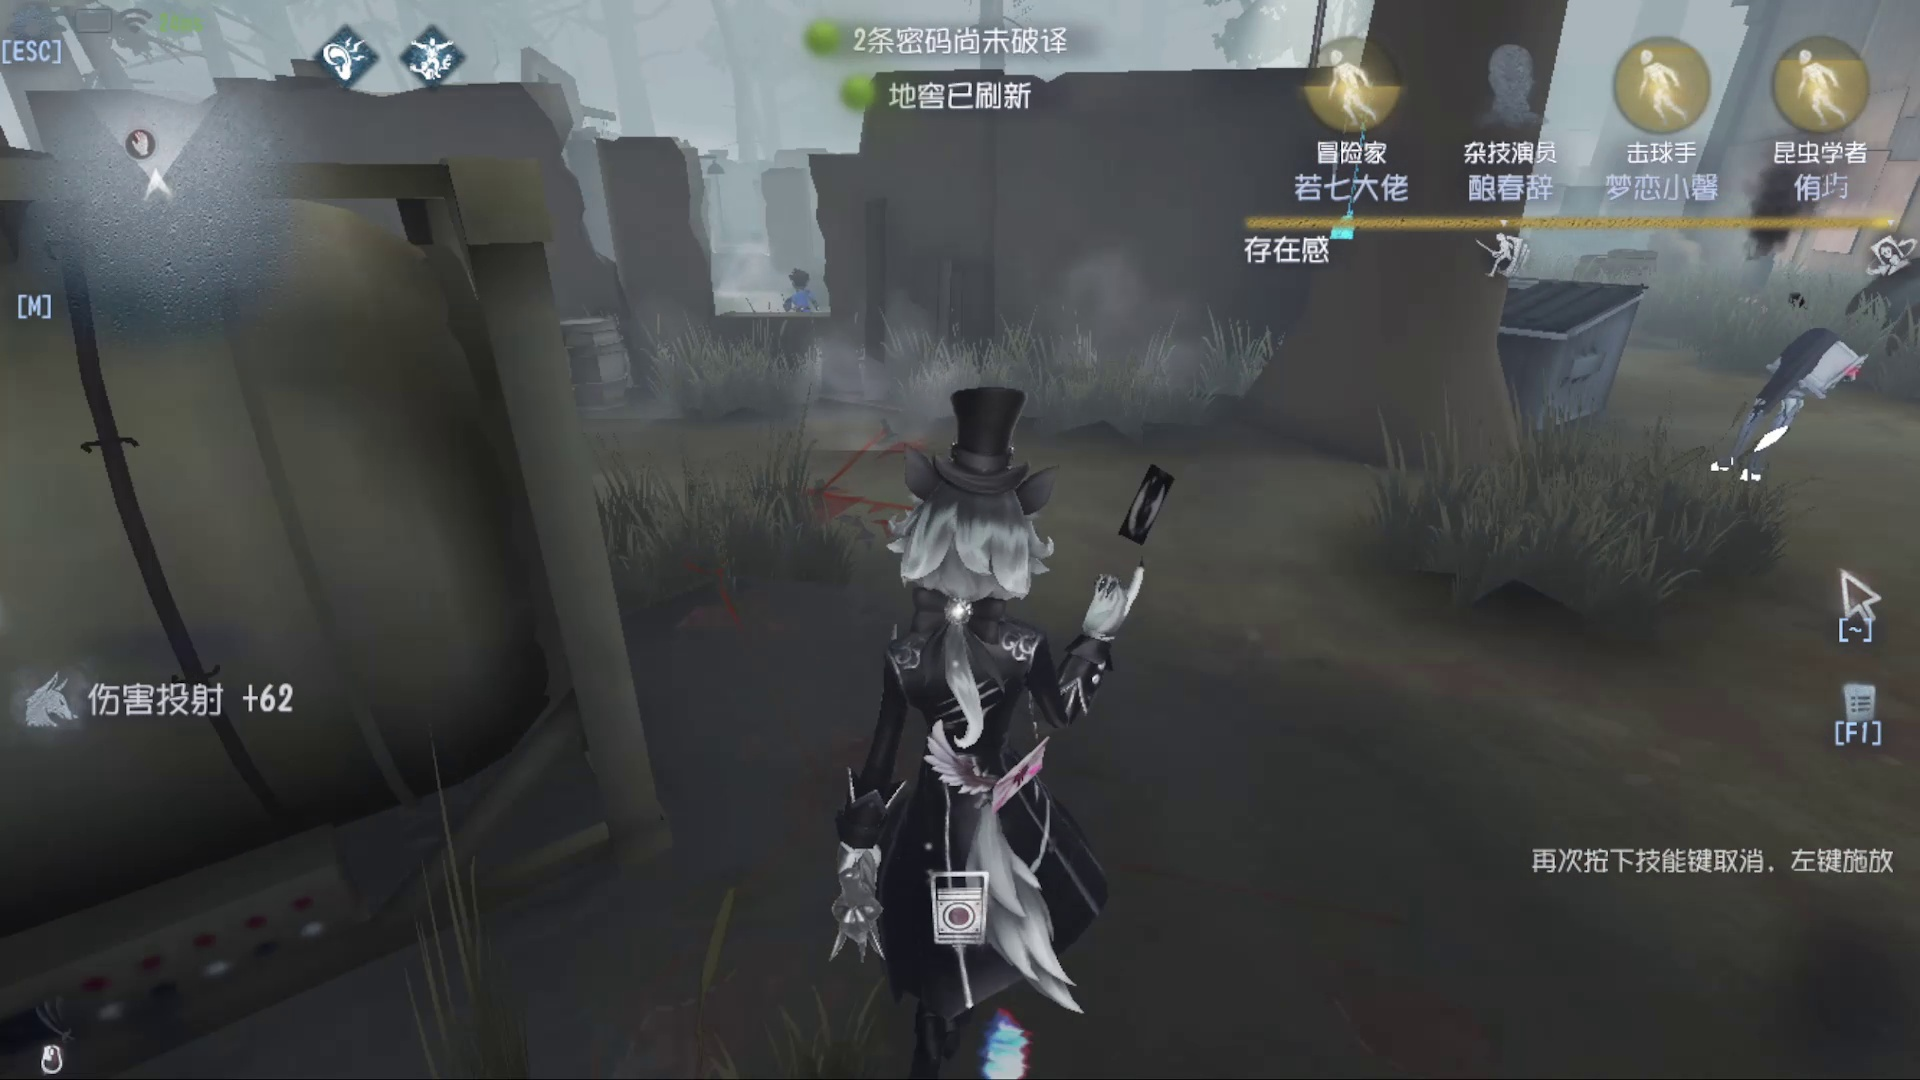求生者: (787, 240, 823, 313)
脚印: (742, 410, 866, 538)
